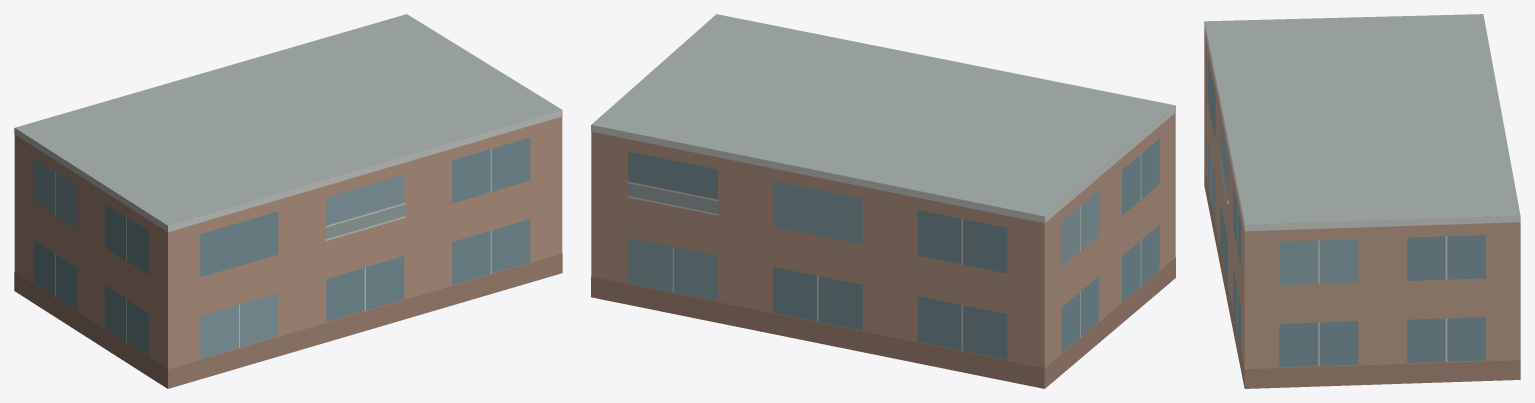
File: survey-upis-32757134.glb
The picture shows the model from 3 angles, left to right: view 1: azimuth 30°, elevation 25°; view 2: azimuth 150°, elevation 25°; view 3: azimuth 270°, elevation 25°; orthographic projection. The views are drawn at different scales.
Visible parts, largest first — view 1: survey-upis-32757134.tmp; view 2: survey-upis-32757134.tmp; view 3: survey-upis-32757134.tmp.
Part boxes in pixels (box(x1,y1,x2,y2)): survey-upis-32757134.tmp: box(14, 14, 562, 388); survey-upis-32757134.tmp: box(591, 14, 1175, 388); survey-upis-32757134.tmp: box(1204, 14, 1520, 388).
Bounding box in the file's own units: 16.8 × 6.1 × 10.66.
